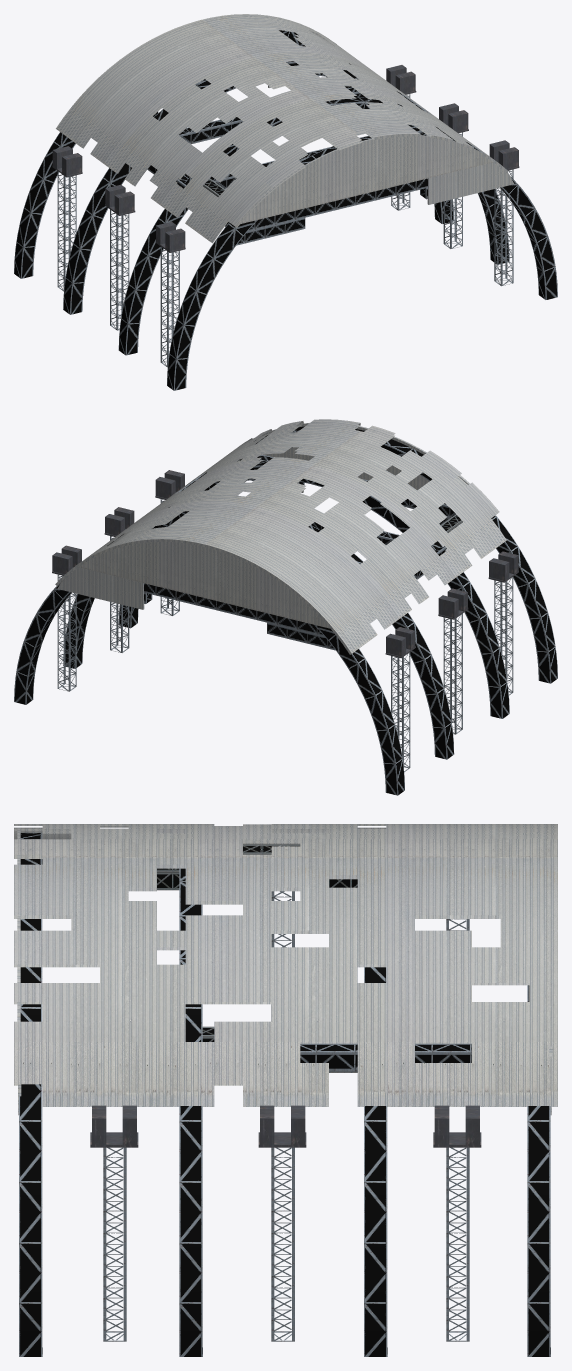
File: CNPP Arc.FBX
3 renders of one model, top to bottom at view 1: azimuth 30°, elevation 25°; view 2: azimuth 150°, elevation 25°; view 3: azimuth 270°, elevation 25°, orthographic. The views are drawn at different scales.
Visible parts, largest first — view 1: Box005, Cylinder001, Box001, Box004, Box003, Box002, Box027, Box008, Box011, Box014, Box006, Box013 (+9 smaller); view 2: Box005, Cylinder002, Box002, Box003, Box004, Box001, Box026, Box021, Box011, Box018, Box006, Box013 (+9 smaller); view 3: Box005, Box001, Box004, Box003, Box002, Box014, Box017, Box018, Box024, Box019, Box015, Box016 (+3 smaller).
Part boxes in pixels (x1=…): Box005: x1=56, y1=14, x2=508, y2=243; Cylinder001: x1=237, y1=135, x2=492, y2=224; Box001: x1=167, y1=133, x2=557, y2=390; Box004: x1=118, y1=97, x2=509, y2=355; Box003: x1=63, y1=61, x2=453, y2=314; Box002: x1=14, y1=30, x2=305, y2=278; Box027: x1=427, y1=162, x2=513, y2=204; Box008: x1=248, y1=178, x2=427, y2=231; Box011: x1=110, y1=209, x2=129, y2=330; Box014: x1=494, y1=169, x2=513, y2=286; Box006: x1=57, y1=171, x2=76, y2=291; Box013: x1=160, y1=247, x2=179, y2=366; Box005: x1=55, y1=419, x2=506, y2=654; Cylinder002: x1=75, y1=541, x2=329, y2=628; Box002: x1=14, y1=584, x2=404, y2=795; Box003: x1=63, y1=511, x2=454, y2=759; Box004: x1=118, y1=460, x2=509, y2=718; Box001: x1=254, y1=426, x2=557, y2=683; Box026: x1=57, y1=567, x2=144, y2=609; Box021: x1=144, y1=583, x2=323, y2=636; Box011: x1=443, y1=613, x2=462, y2=734; Box018: x1=57, y1=574, x2=76, y2=691; Box006: x1=391, y1=652, x2=410, y2=771; Box013: x1=494, y1=577, x2=513, y2=695; Box005: x1=14, y1=824, x2=557, y2=1106; Box001: x1=19, y1=832, x2=42, y2=1356; Box004: x1=179, y1=868, x2=202, y2=1356; Box003: x1=364, y1=967, x2=387, y2=1356; Box002: x1=527, y1=985, x2=550, y2=1356; Box014: x1=103, y1=1147, x2=126, y2=1341; Box017: x1=271, y1=1147, x2=294, y2=1341; Box018: x1=446, y1=1147, x2=469, y2=1341; Box024: x1=300, y1=1043, x2=471, y2=1071; Box019: x1=433, y1=1105, x2=481, y2=1147; Box015: x1=90, y1=1105, x2=138, y2=1147; Box016: x1=258, y1=1105, x2=306, y2=1147.
Bounding box in the file's own units: 311 × 159 × 229.
8 materials, 8 textured.
